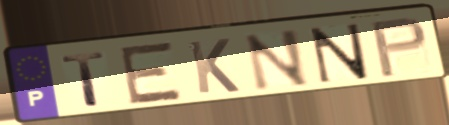E: (118, 39, 186, 107)
K: (185, 36, 242, 96)
N: (242, 27, 313, 93), (308, 21, 371, 86)
P: (368, 15, 430, 80)
T: (59, 50, 110, 109)
